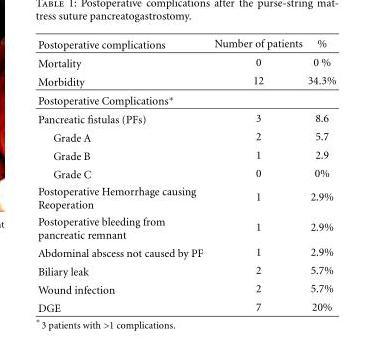table: (37, 36, 335, 313)
table column: (37, 36, 207, 313), (207, 36, 304, 313), (304, 36, 335, 313)
table column header: (37, 36, 335, 53)
table projected row header: (37, 90, 335, 109)
table row: (37, 212, 335, 243), (37, 182, 335, 212), (37, 71, 335, 90), (37, 90, 335, 109), (37, 145, 335, 164), (37, 279, 335, 298), (37, 53, 335, 71), (37, 109, 335, 127), (37, 127, 335, 145), (37, 164, 335, 182), (37, 243, 335, 261), (37, 261, 335, 279), (37, 36, 335, 53), (37, 298, 335, 313)
